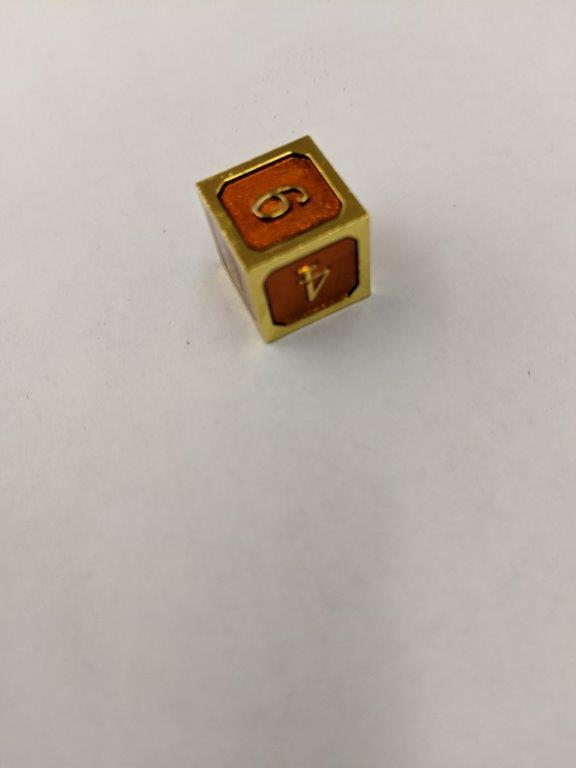d6-6: (198, 133, 371, 345)
